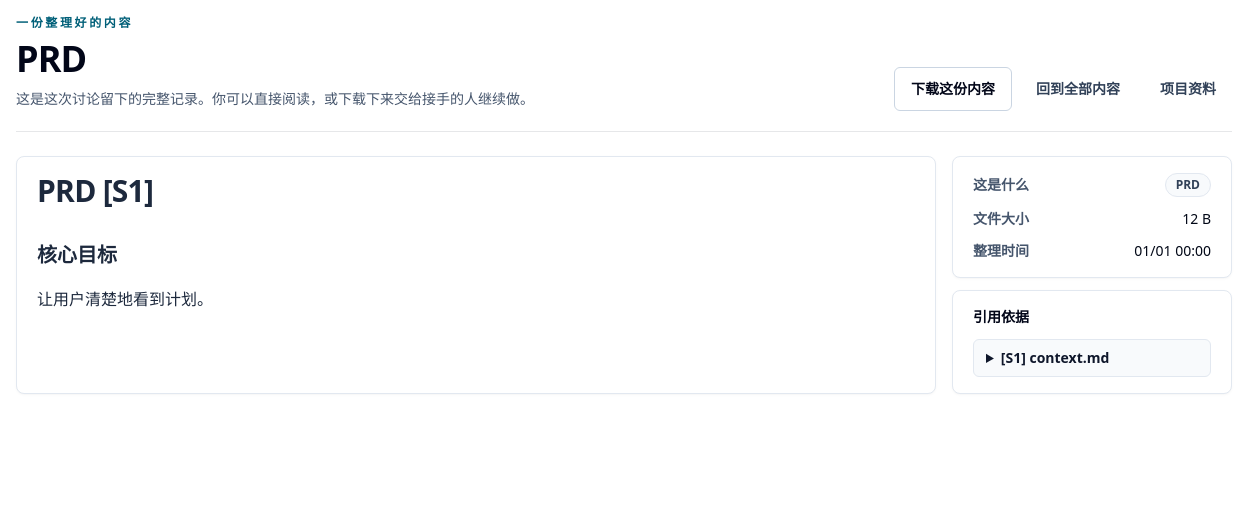
Test case: ArtifactDetailClient › opens the persisted citation snapshot
Click the heading "[S1] context.md" at {"x": 1055, "y": 358}, box [1001,348,1109,367]
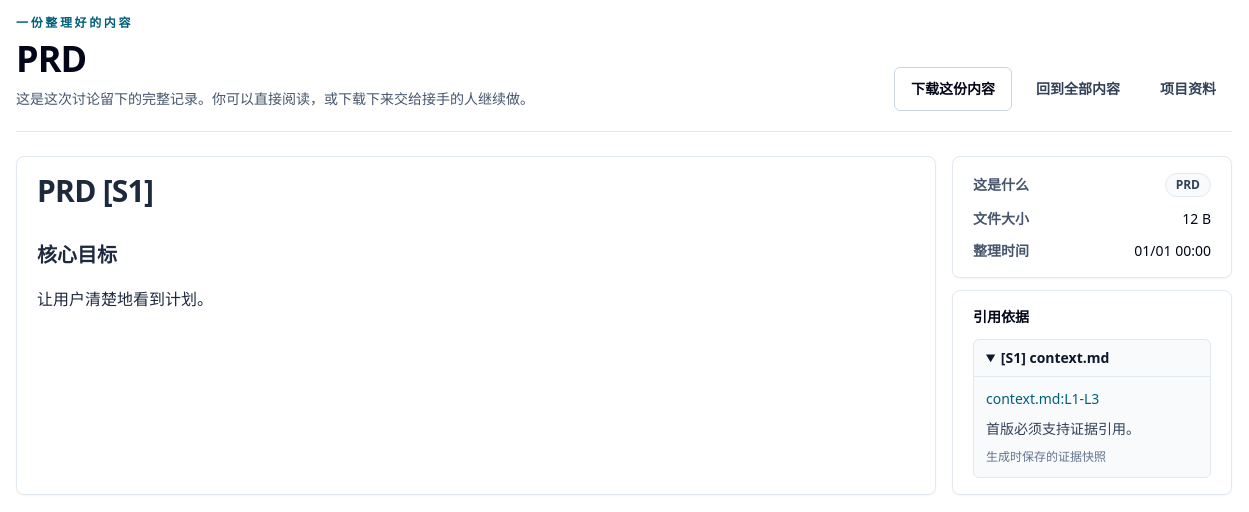
Expected: the text "context.md:L1-L3" is shown, [986,389,1099,408]
Expected: the text "首版必须支持证据引用。" is shown, [986,419,1140,438]
Expected: the text "生成时保存的证据快照" is shown, [986,448,1106,465]
